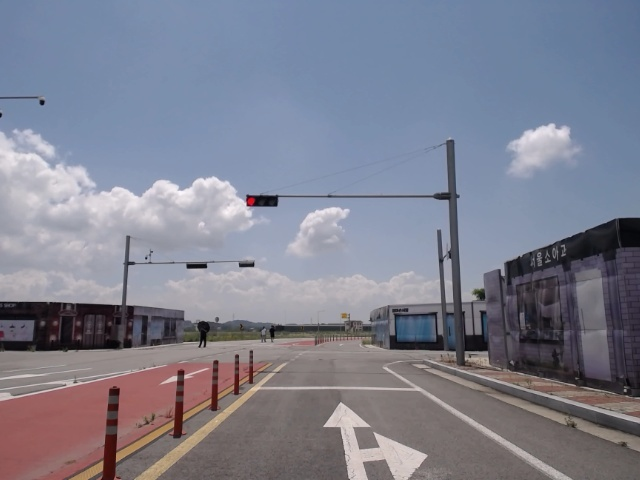red_3: (244, 195, 279, 206)
